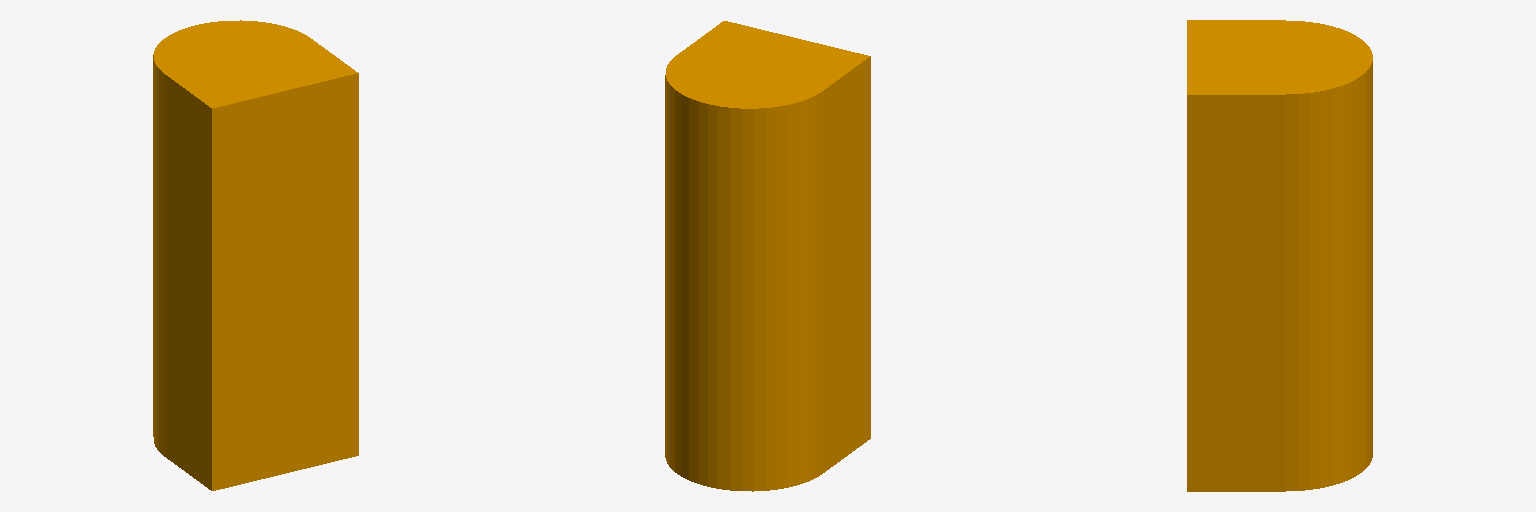
URDF robot description (square_circle):
<?xml version="1.0" ?>
<robot name="square_circle">

    <link concave="yes" name="square_circle">
        <visual>
            <origin rpy="1.5707963267948966 0 0" xyz="0 0 0"/>
            <geometry>
                <mesh filename="Shapes/square_circle.obj" scale=".1 .1 .1"/>
            </geometry>
        </visual>
        <collision concave="yes">
            <origin rpy="1.5707963267948966 0 0" xyz="0 0 0"/>
            <geometry>
                <mesh filename="Shapes/square_circle.obj" scale=".1 .1 .1"/>
            </geometry>
        </collision>
        <inertial>
            <mass value="0.3"/>
            <inertia ixx="0.000029435425" ixy="0.0" ixz="0.0" iyy="0.000029435425" iyz="0.0" izz="0.00000725805"/>
        </inertial>
    </link>

</robot>

--- Render facts (derived) ---
The picture shows the robot from 3 angles, left to right: view 1: azimuth 30°, elevation 25°; view 2: azimuth 150°, elevation 25°; view 3: azimuth 270°, elevation 25°; orthographic projection.
Model square_circle with 1 links and 0 joints (none), rooted at square_circle, posed every joint at zero.
Visible links, largest first — view 1: square_circle; view 2: square_circle; view 3: square_circle.
Boxes of the visible links, x1,y1,x2,y2 form: square_circle: (153,20,358,490); square_circle: (665,21,870,491); square_circle: (1187,20,1372,491).
Bounding box of the posed robot: 0.04 × 0.0425 × 0.1 m (x, y, z).
1 mesh visuals loaded from 1 distinct referenced files (1 OBJ).
